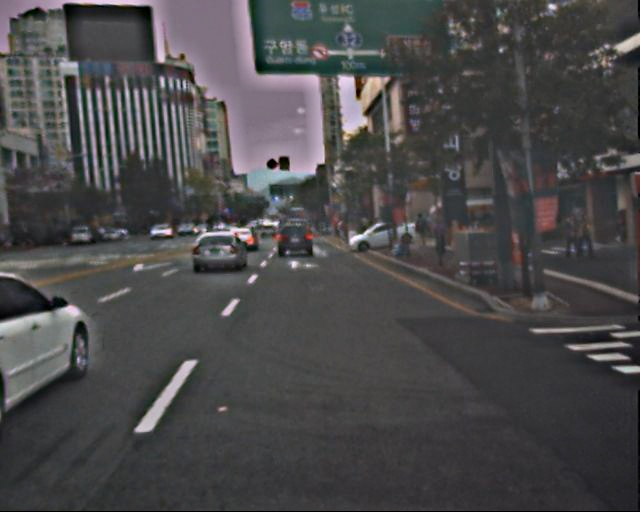person: (559, 211, 580, 263), (573, 211, 594, 262), (431, 216, 449, 259), (413, 212, 429, 251)
